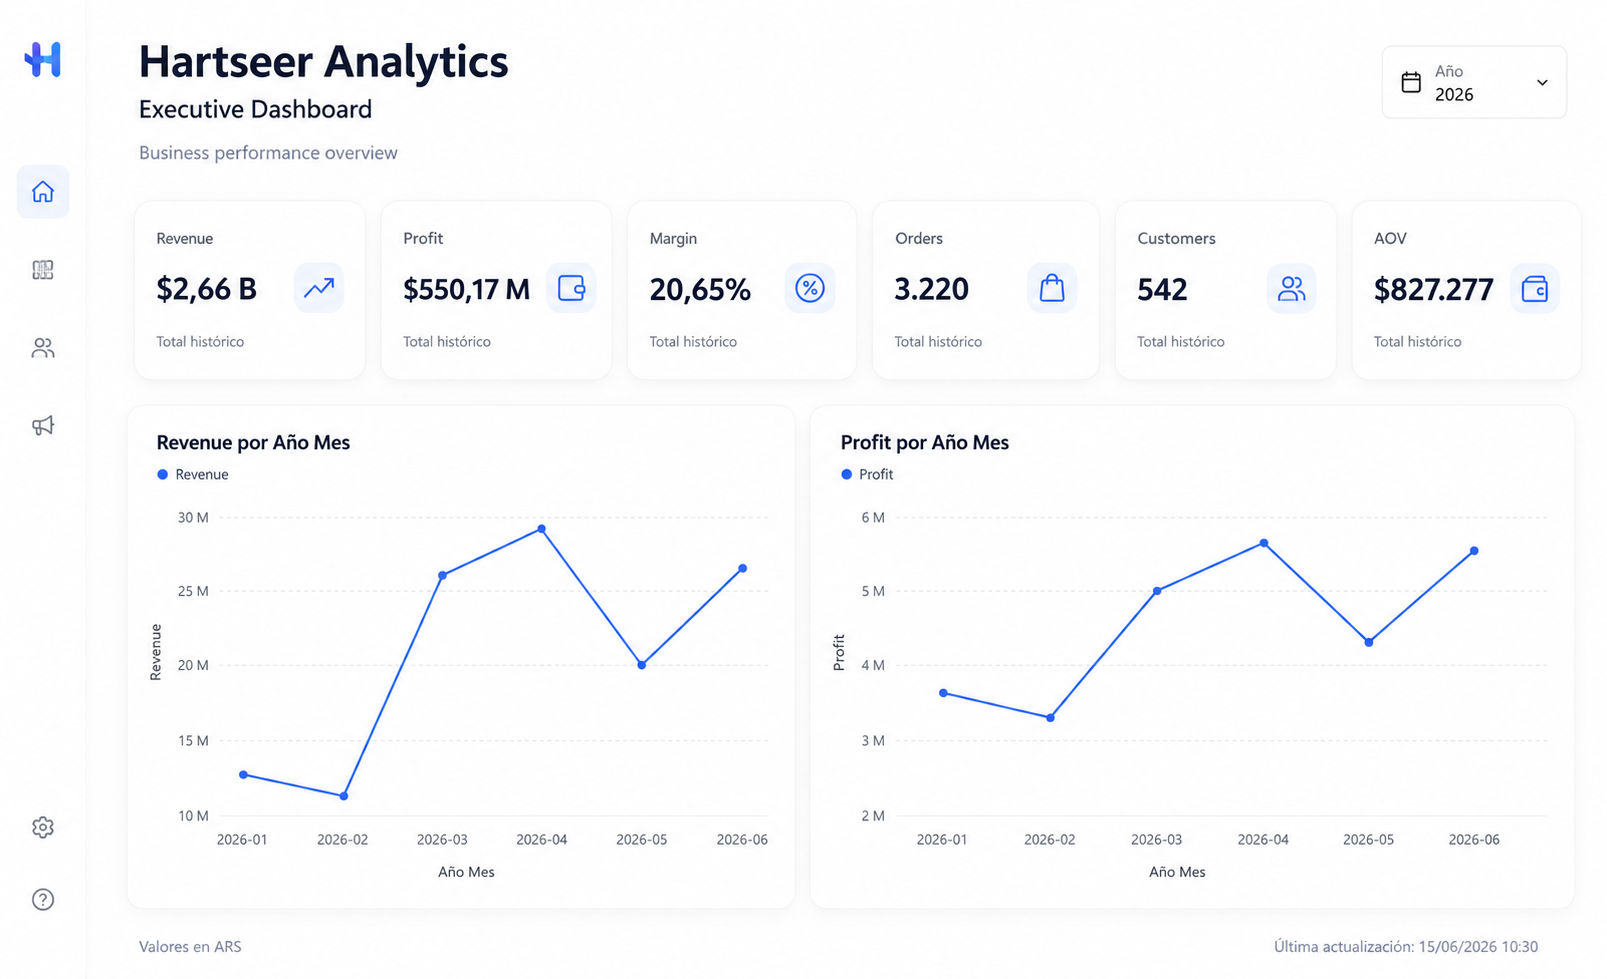

Layout of this report page (visuals, bound fields, positions):
{"tool":"powerbi","page":{"name":"Dashboard Ejecutivo","canvas":[1280,720],"ordinal":0},"visuals":[{"type":"cardVisual","title":"Revenue","fields":{"Data":["Detalle Compra.Revenue"]},"box":[18,116,190,125],"z":0},{"type":"lineChart","title":"Revenue Trend","fields":{"Y":["Detalle Compra.Revenue"],"Category":["Calendario.Mes Corto ENG"]},"box":[18,267,613,420],"z":1000},{"type":"lineChart","title":"Profit Trend","fields":{"Category":["Calendario.Mes Corto ENG"],"Y":["Detalle Compra.Profit"]},"box":[653,267,613,420],"z":2000},{"type":"textbox","box":[18,0,439,62],"z":3000},{"type":"textbox","box":[18,55,303,44],"z":4000},{"type":"cardVisual","title":"Profit","fields":{"Data":["Detalle Compra.Profit"]},"box":[229.6,116,190,125],"z":5000},{"type":"cardVisual","title":"Margin %","fields":{"Data":["Detalle Compra.Margin"]},"box":[450,116,190,125],"z":6000},{"type":"cardVisual","title":"Orders","fields":{"Data":["Compra.Orders"]},"box":[652.8,116,190,125],"z":7000},{"type":"cardVisual","title":"Customers","fields":{"Data":["Compra.Customers"]},"box":[864.4,116,190,125],"z":8000},{"type":"cardVisual","title":"AOV","fields":{"Data":["Detalle Compra.AOV"]},"box":[1076,116,190,125],"z":9000},{"type":"slicer","fields":{"Values":["Calendario.Date"]},"box":[1028,10,238,89],"z":11000}]}

Visuals, with their boxes on the page's 1280x720 design canvas (x1, y1, x2, y2). These are canvas units, not pixel positions in the 1607x979 screenshot, which may show the page scaled, cropped or inside an application window:
"Revenue" cardVisual: box(18, 116, 208, 241)
"Revenue Trend" lineChart: box(18, 267, 631, 687)
"Profit Trend" lineChart: box(653, 267, 1266, 687)
textbox: box(18, 0, 457, 62)
textbox: box(18, 55, 321, 99)
"Profit" cardVisual: box(230, 116, 420, 241)
"Margin %" cardVisual: box(450, 116, 640, 241)
"Orders" cardVisual: box(653, 116, 843, 241)
"Customers" cardVisual: box(864, 116, 1054, 241)
"AOV" cardVisual: box(1076, 116, 1266, 241)
slicer - Calendario.Date: box(1028, 10, 1266, 99)
